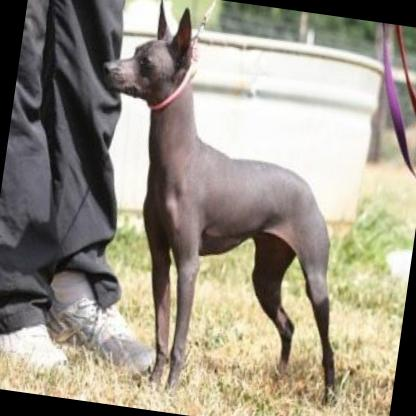Mexican_hairless: (54, 0, 387, 415)
